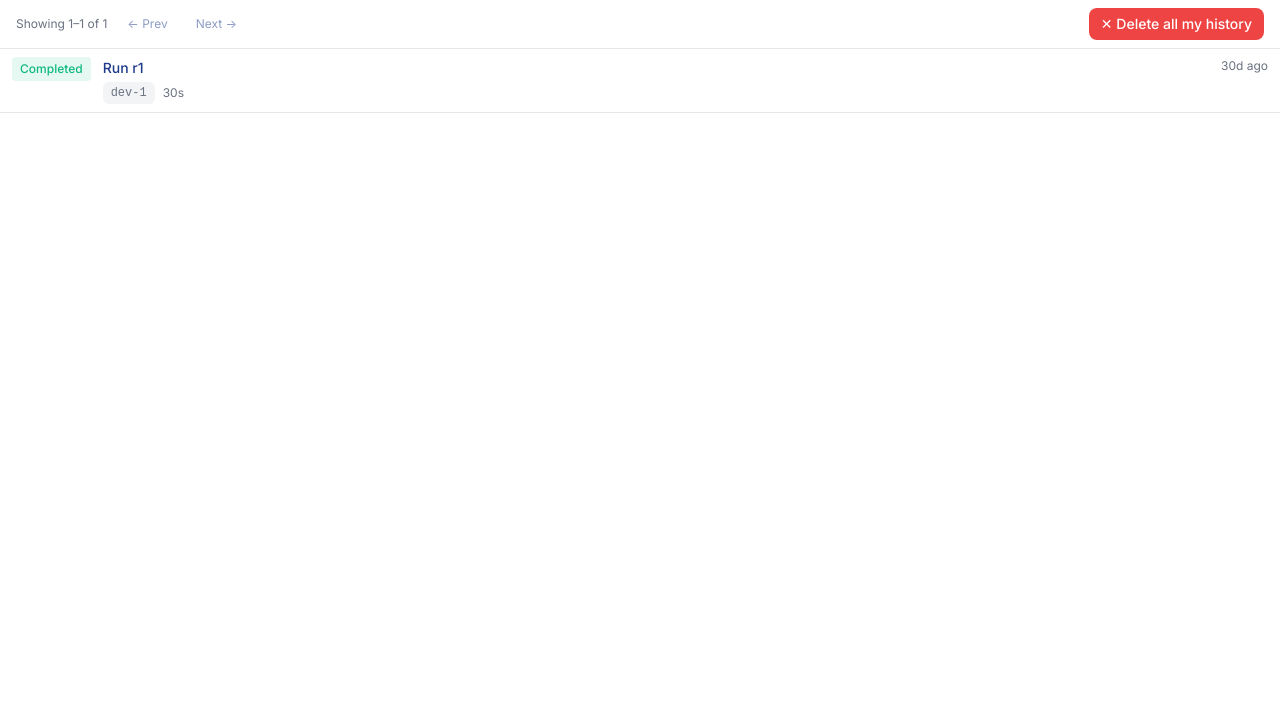
Test: ScenariosHistory › shows an error Toast when destroyAll() rejects
This screenshot has width=1280, height=720.
Expected: the button with test id "history-row-r1" is shown, [0, 49, 1279, 113]
Click the button with test id "history-delete-all" at (1176, 24), box [1089, 8, 1264, 40]
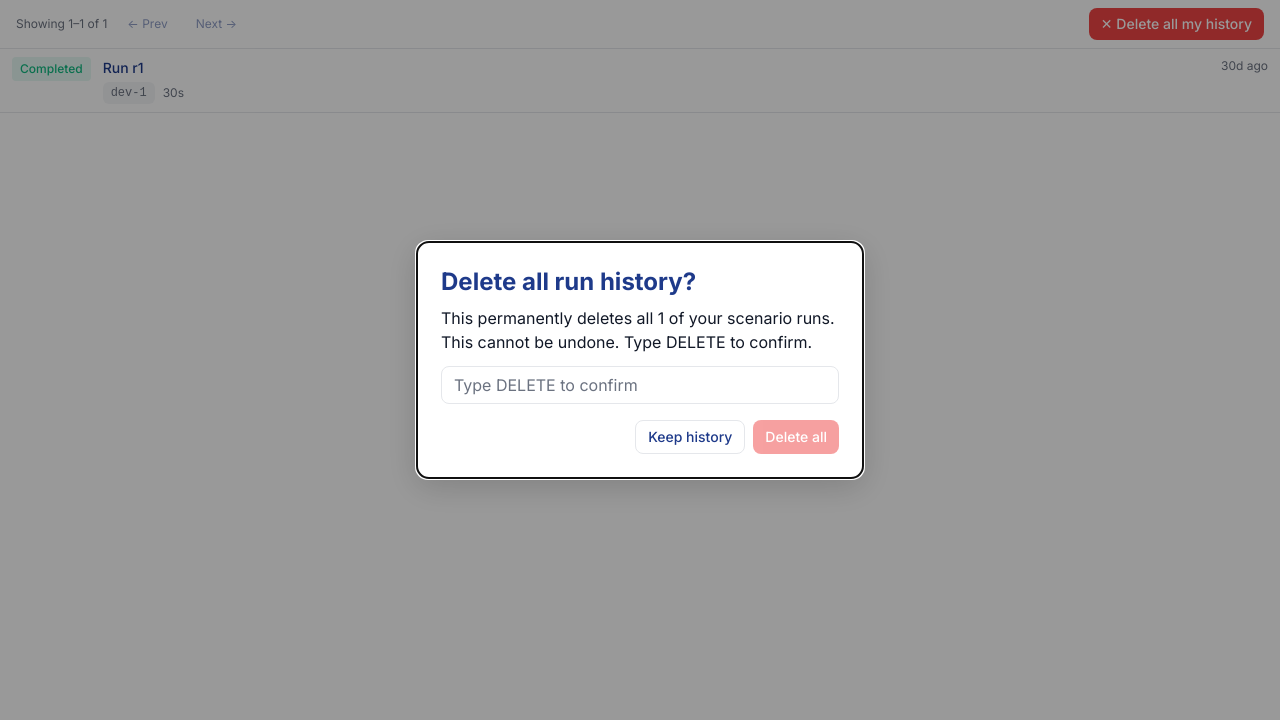
Type "DELETE" into the field with test id "mass-delete-input" at (640, 385), box [441, 366, 839, 404]
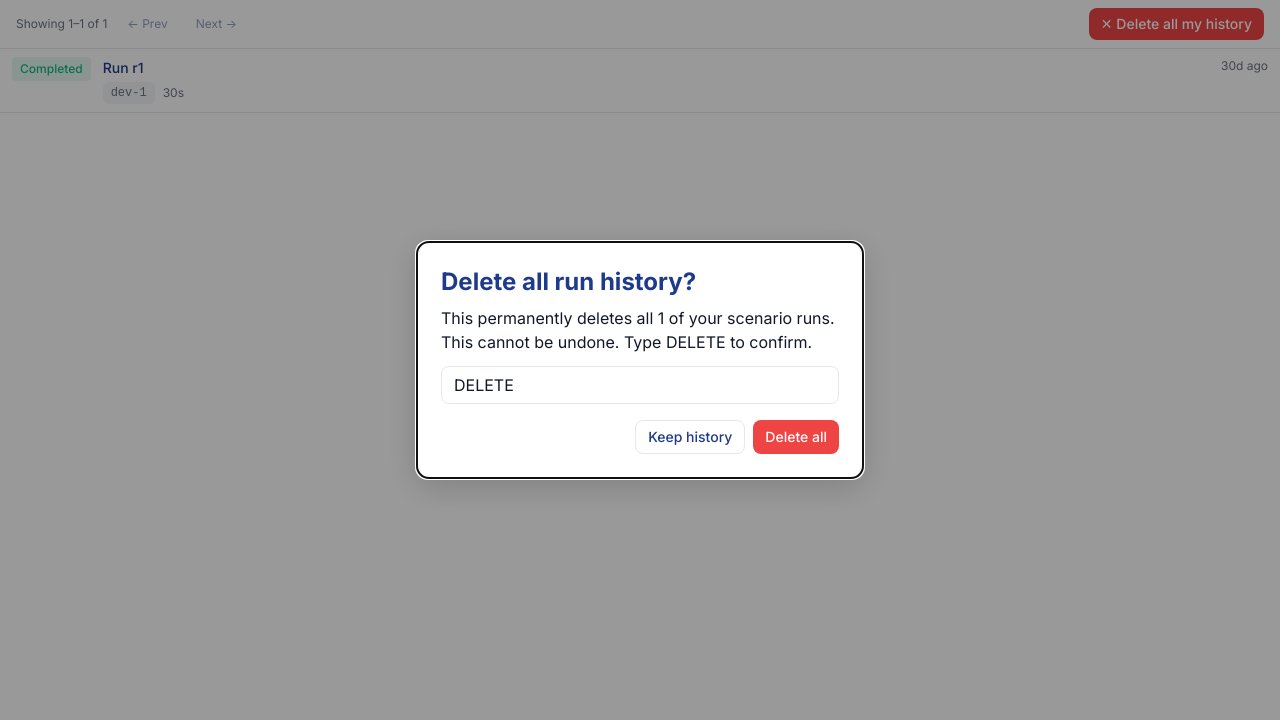
Click the button with test id "mass-delete-confirm" at (796, 437), box [753, 420, 839, 454]
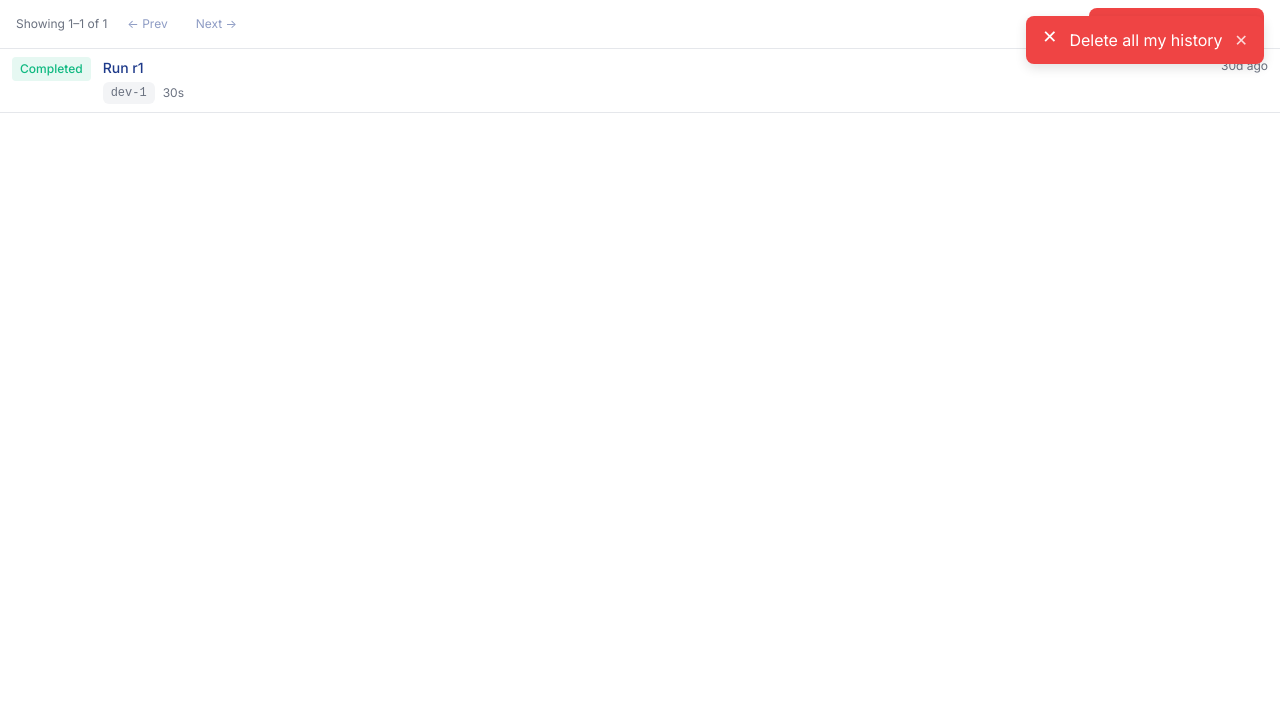
Result: the message "✕ Delete all my history ✕" is shown at [1026, 16, 1264, 64]
